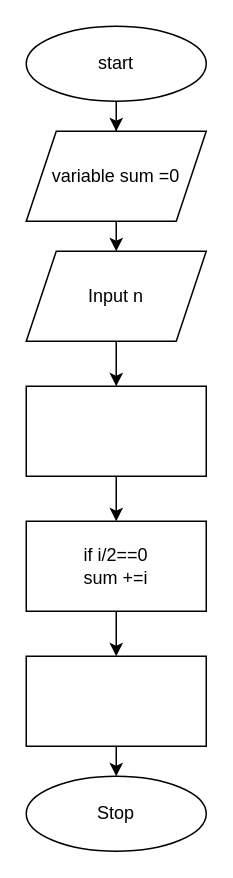
Image size: 233x878. Some labels were removed from this diagram. Here are the shapes that lost their labels. From the top down, the box of each, then its label:
(25, 385, 206, 476): for loop i from 0-n
(25, 655, 206, 746): Print sum
